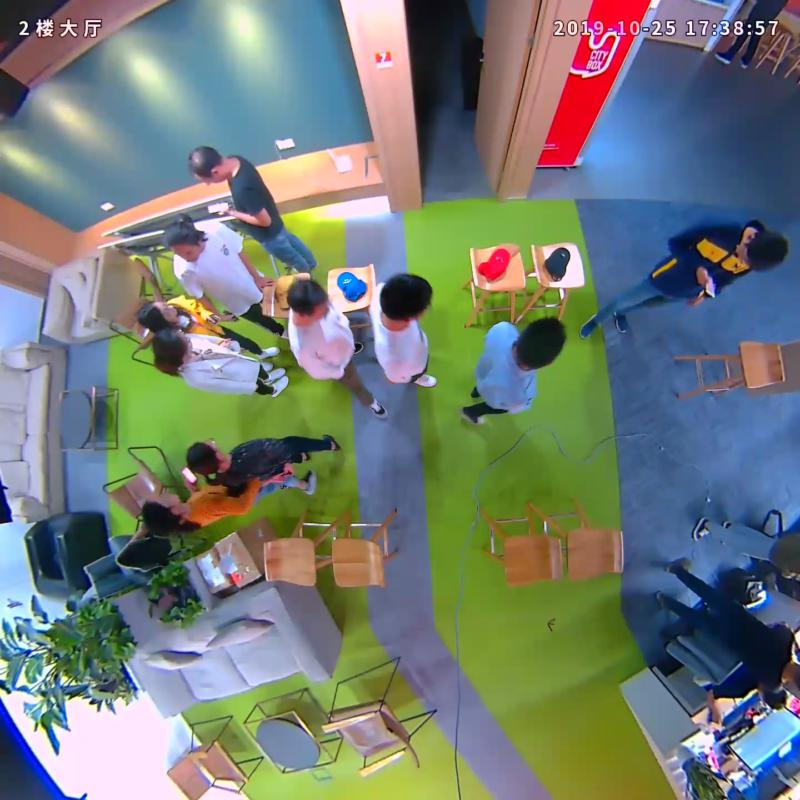head: (378, 273, 433, 324), (517, 317, 567, 371), (735, 231, 790, 272), (286, 276, 329, 321), (162, 219, 204, 262), (150, 329, 193, 369), (142, 492, 181, 531), (187, 146, 226, 183), (186, 440, 223, 475), (136, 298, 178, 328)
